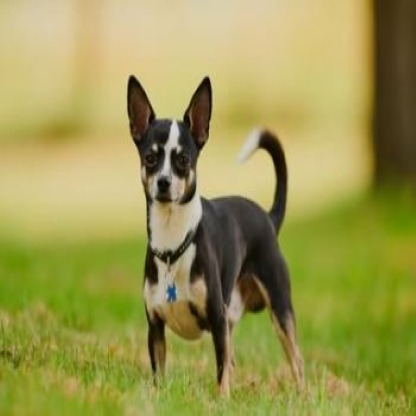chihuahua: (124, 73, 313, 403)
